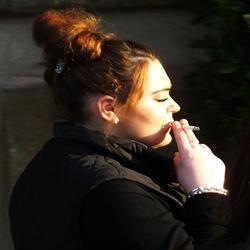smoking: (161, 119, 201, 134)
